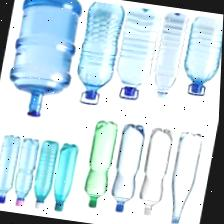plastic: (0, 0, 88, 123), (70, 0, 125, 107), (110, 5, 161, 104), (177, 12, 224, 102), (148, 9, 191, 104), (77, 116, 120, 211), (106, 122, 149, 212), (135, 126, 176, 217), (164, 131, 204, 224), (50, 141, 82, 214), (29, 140, 61, 210), (10, 138, 39, 206), (0, 132, 22, 205)
